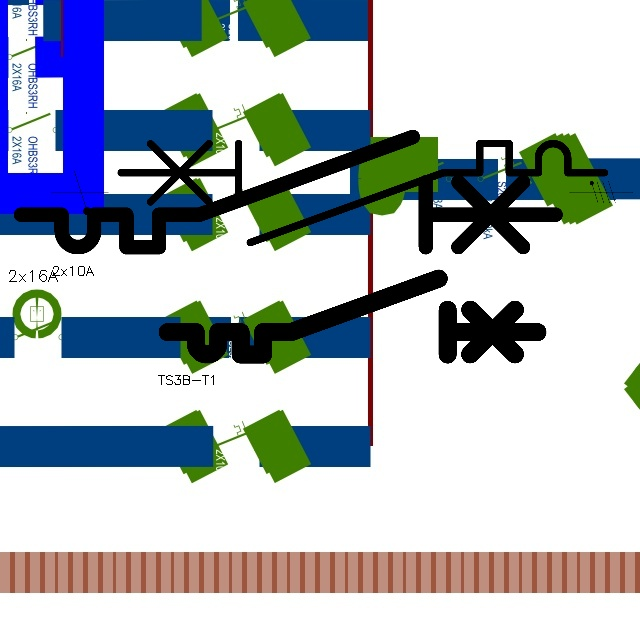interruptor_termomagnetico: (7, 123, 569, 261), (108, 131, 617, 255), (158, 269, 547, 364)
